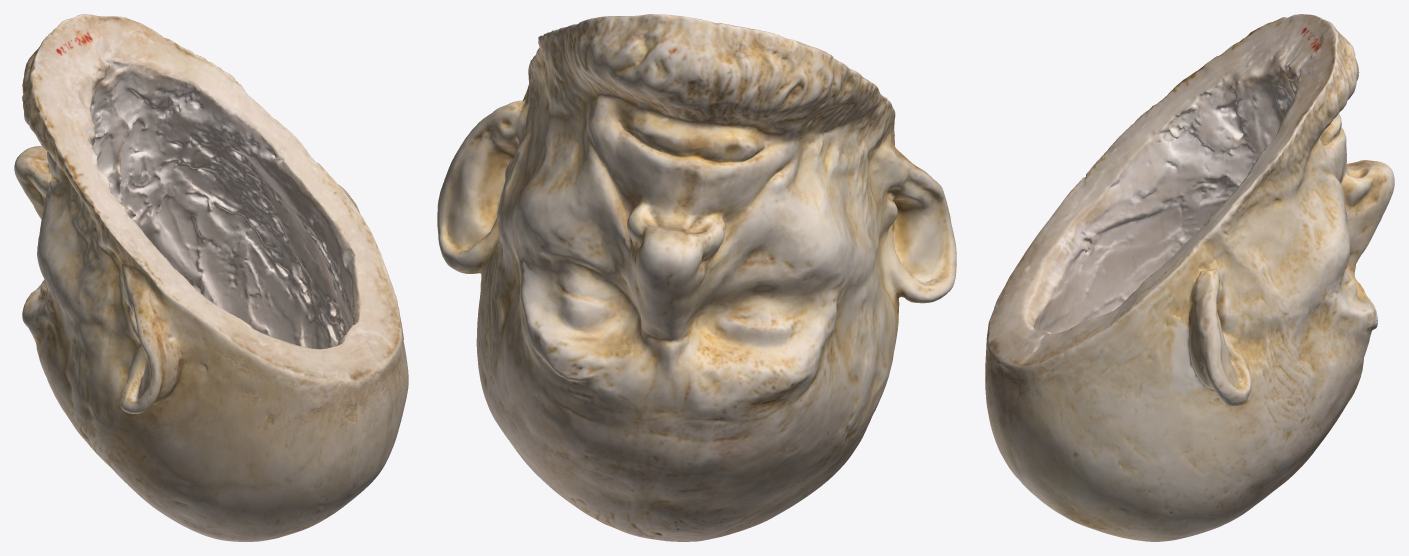
File: preview.glb
3 views of the same model, side by side, from view 1: azimuth 30°, elevation 25°; view 2: azimuth 150°, elevation 25°; view 3: azimuth 270°, elevation 25° (orthographic). The views are drawn at different scales.
Size of the model in its own units: 197 by 277 by 222.
Materials: 1 (1 with a texture image).
